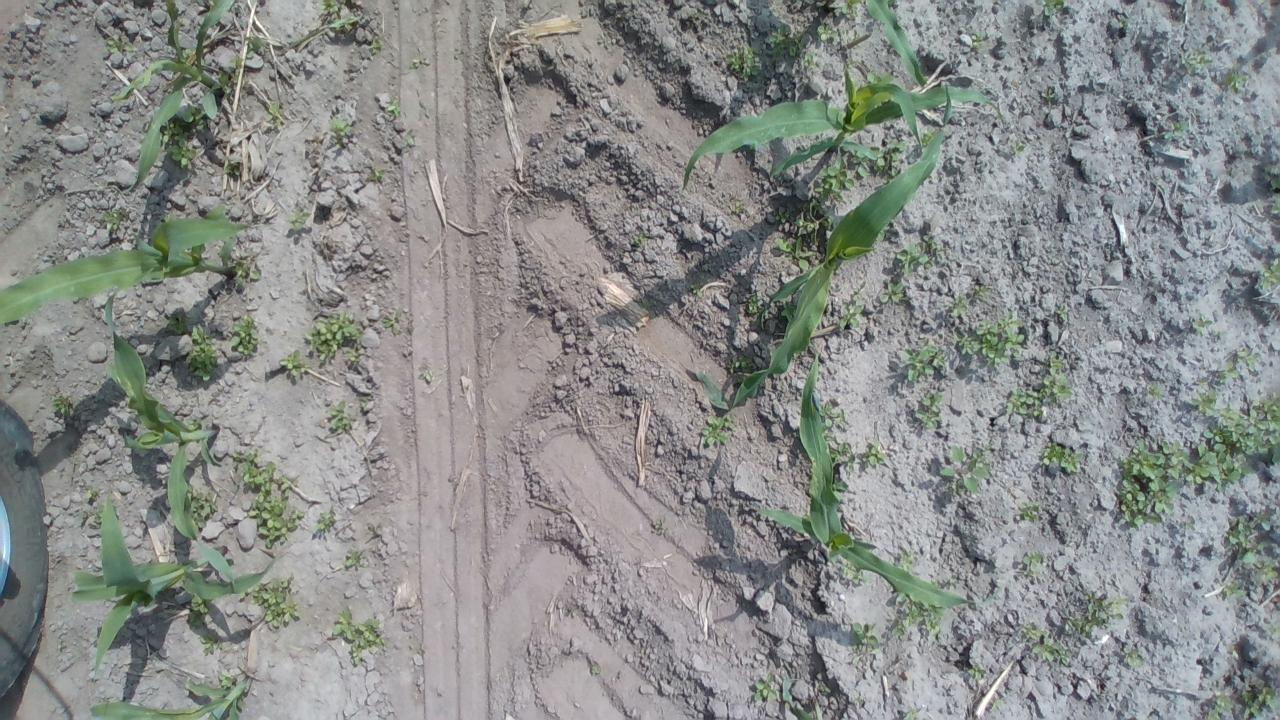Maize: (691, 82, 953, 412), (750, 352, 1002, 609), (102, 293, 241, 587), (679, 70, 988, 190), (70, 496, 272, 679), (0, 211, 252, 322), (102, 0, 236, 192), (88, 677, 252, 720), (866, 4, 931, 90)
Weeds: (1118, 392, 1280, 530), (230, 452, 304, 548), (804, 140, 906, 206), (1000, 357, 1082, 417), (876, 242, 942, 308), (769, 204, 829, 268), (1226, 528, 1278, 601), (242, 574, 302, 629), (332, 608, 386, 662), (300, 314, 362, 360), (952, 318, 1022, 356), (1201, 686, 1280, 718), (185, 594, 223, 658), (938, 445, 990, 490), (819, 402, 852, 472), (891, 592, 938, 637), (159, 124, 199, 170), (1020, 626, 1071, 662), (1071, 596, 1126, 629), (897, 345, 946, 381), (317, 3, 363, 40), (767, 33, 810, 70), (1038, 445, 1086, 478), (186, 328, 215, 378), (1220, 346, 1262, 378), (232, 318, 260, 360), (702, 415, 734, 450), (727, 47, 764, 76), (916, 391, 943, 428), (851, 622, 880, 656), (837, 293, 865, 326), (188, 494, 215, 527), (1256, 257, 1280, 294), (325, 399, 351, 432), (1194, 382, 1220, 414), (859, 442, 892, 466), (236, 261, 260, 294), (107, 32, 135, 59), (314, 509, 337, 541), (280, 352, 306, 378), (752, 676, 776, 704), (290, 201, 310, 234), (98, 210, 127, 232), (844, 567, 868, 588), (52, 398, 76, 419), (968, 30, 988, 54), (1166, 120, 1190, 140), (327, 118, 352, 137), (1184, 52, 1210, 70), (1019, 501, 1040, 523), (745, 296, 768, 316), (813, 26, 851, 38), (1226, 70, 1248, 90), (340, 549, 362, 569), (214, 676, 241, 691), (383, 311, 402, 330), (1122, 647, 1142, 665), (950, 298, 969, 316), (1191, 316, 1213, 331), (1020, 555, 1038, 573), (898, 551, 914, 568), (1044, 2, 1063, 16), (266, 100, 280, 119), (1148, 381, 1166, 395), (968, 666, 986, 680), (940, 578, 954, 594), (386, 95, 396, 114), (424, 370, 437, 382), (362, 42, 377, 52), (972, 284, 986, 293), (632, 233, 645, 242)
